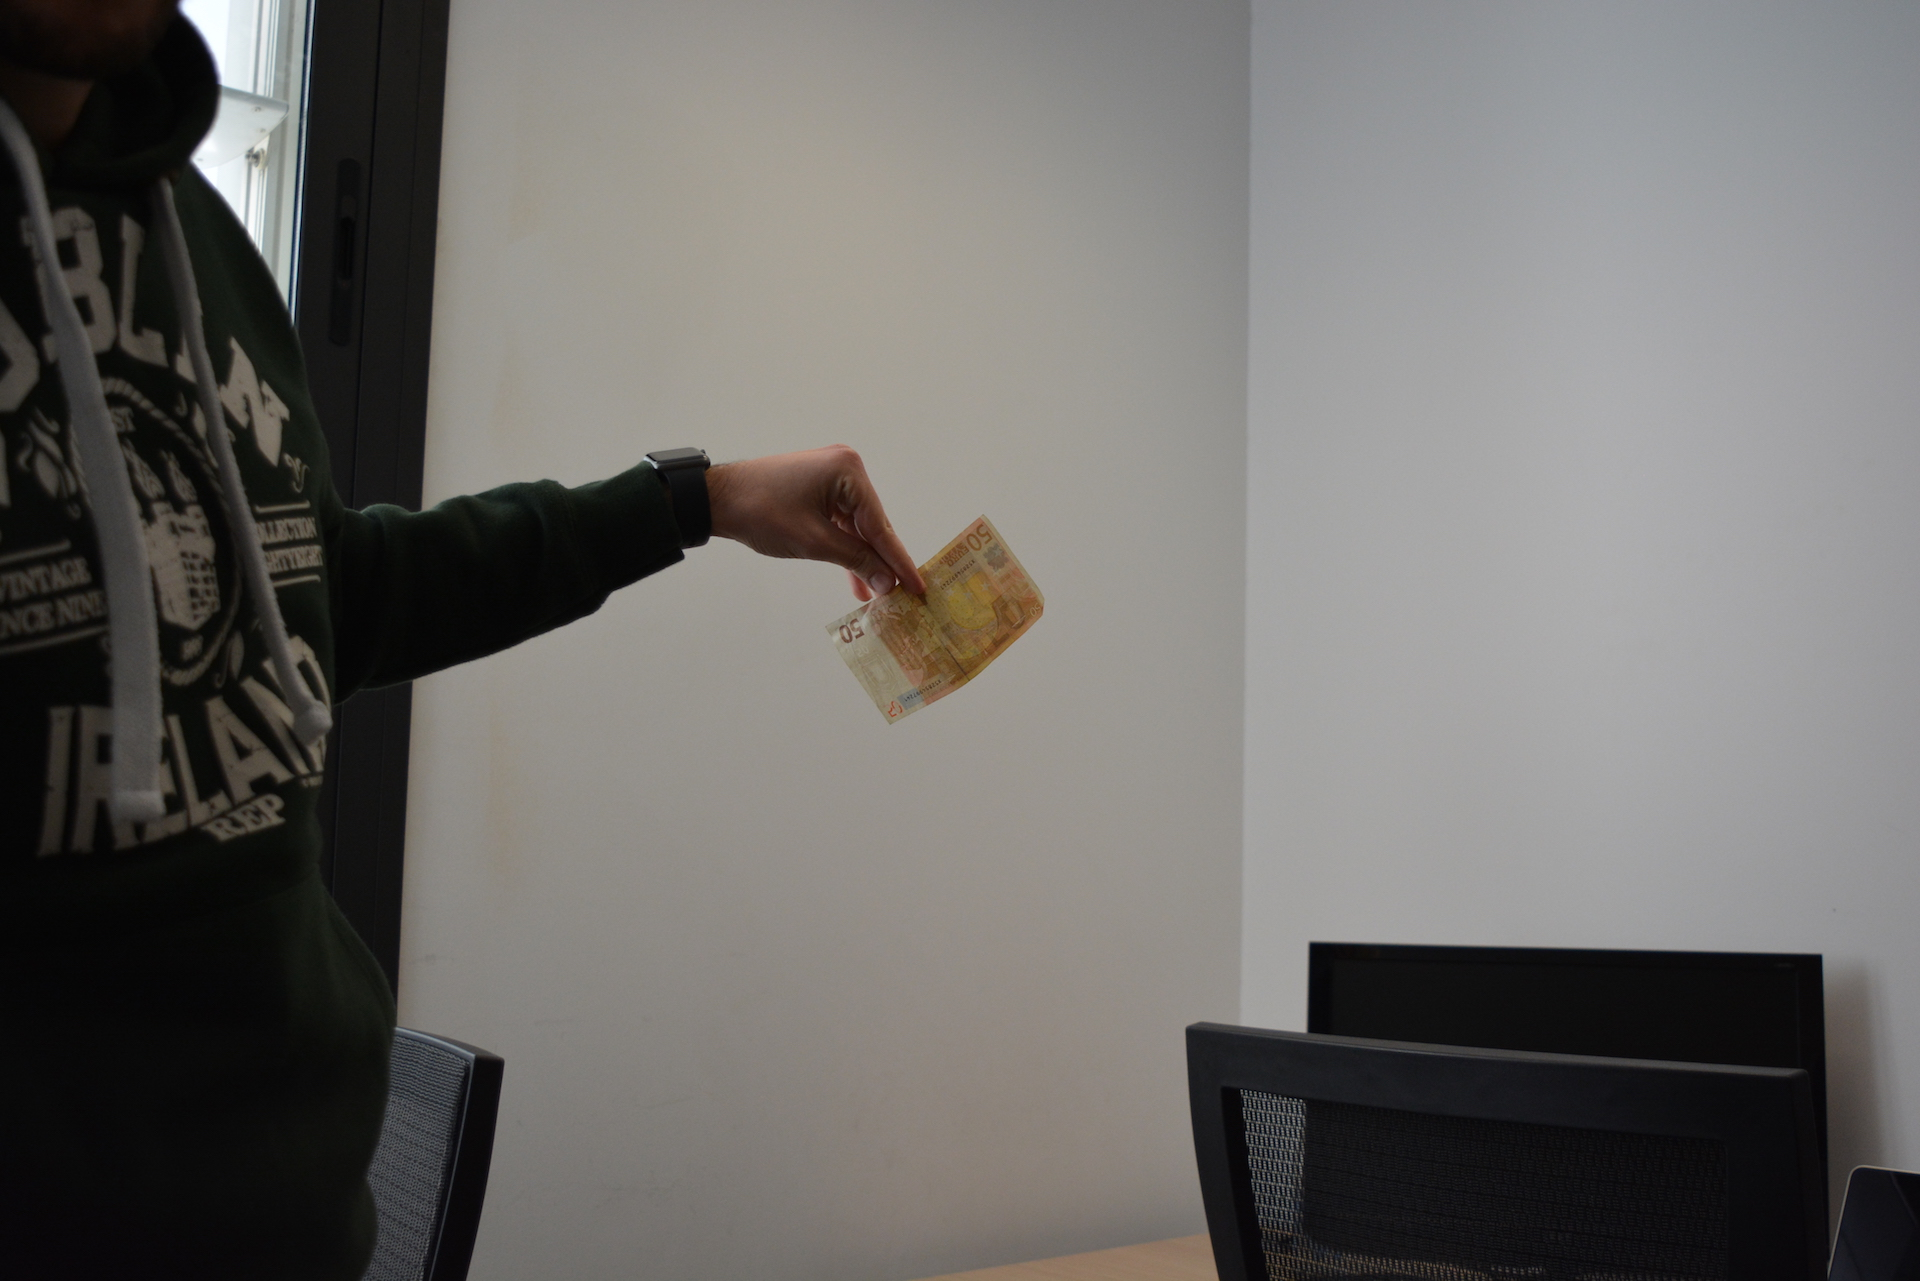billete: (823, 512, 1046, 728)
